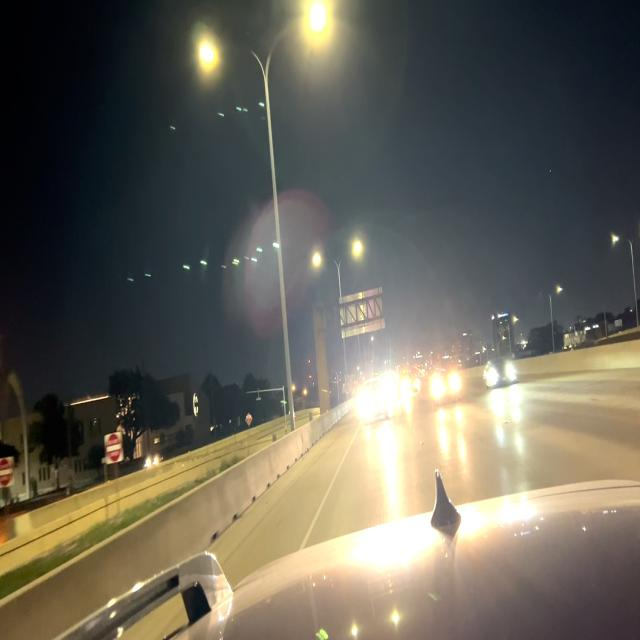back-of-sign: (339, 285, 385, 341)
